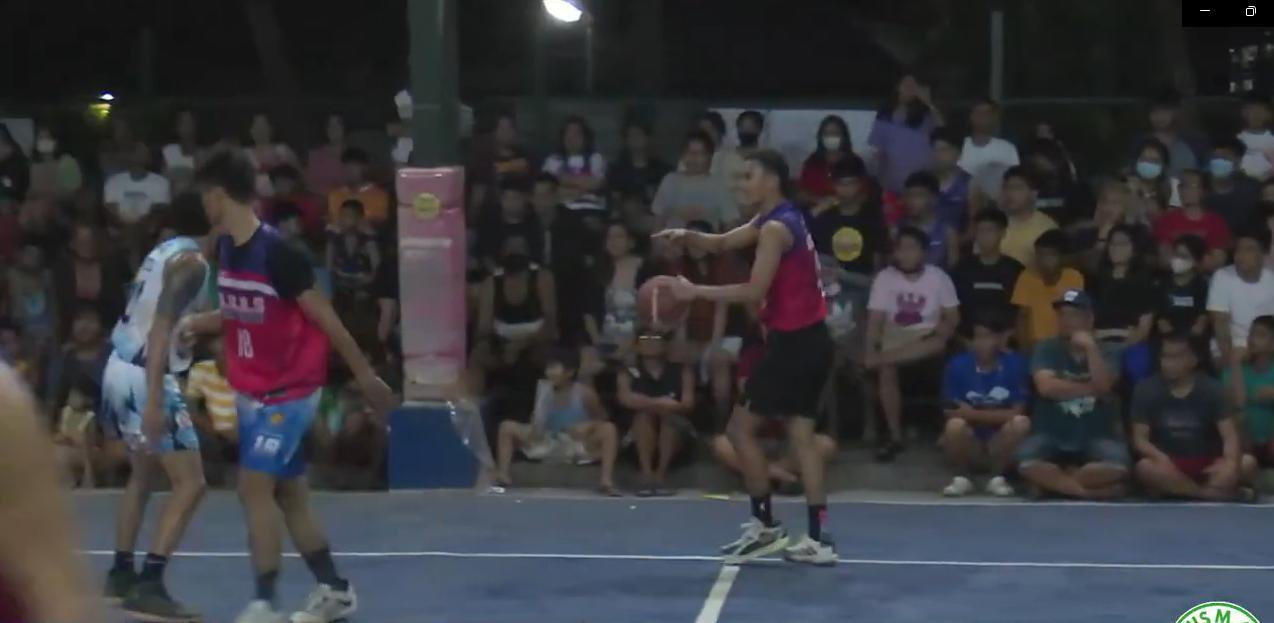ball: (633, 270, 688, 337)
human: (190, 143, 405, 623), (633, 140, 860, 580), (92, 172, 227, 623)
